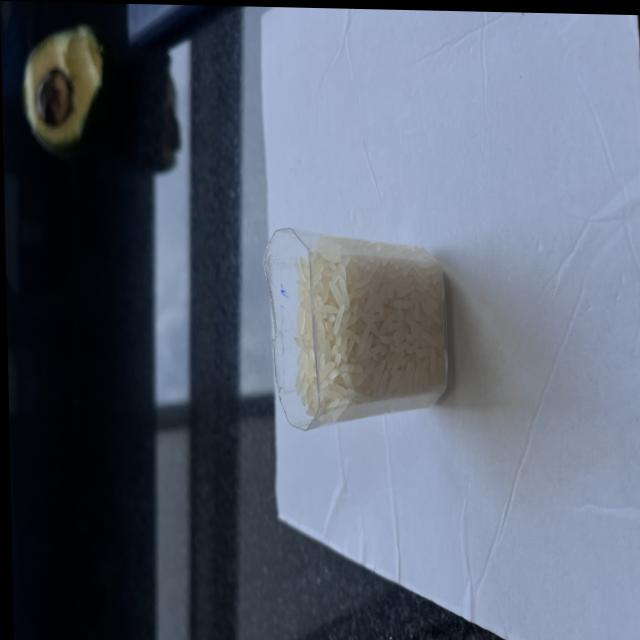raw_rice: (289, 238, 446, 415)
